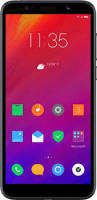lenovo: (1, 1, 97, 200)
